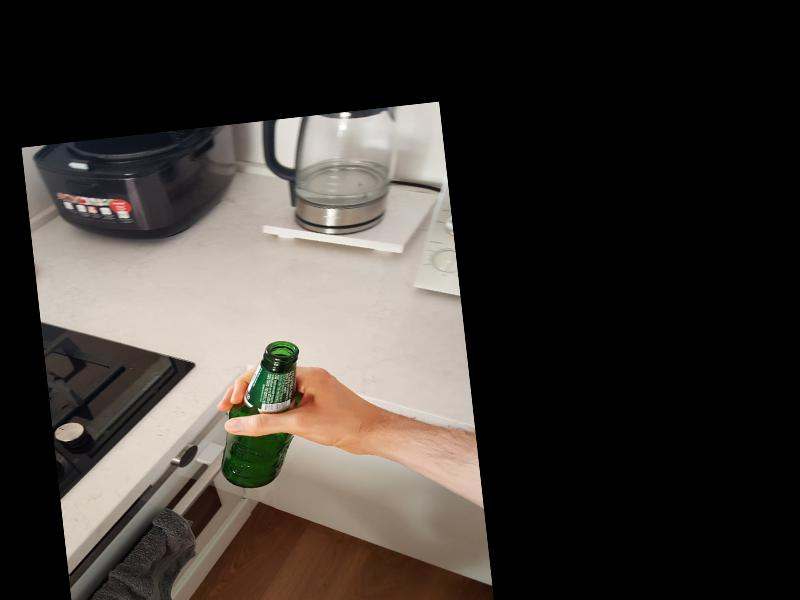Beer: (208, 340, 313, 492)
